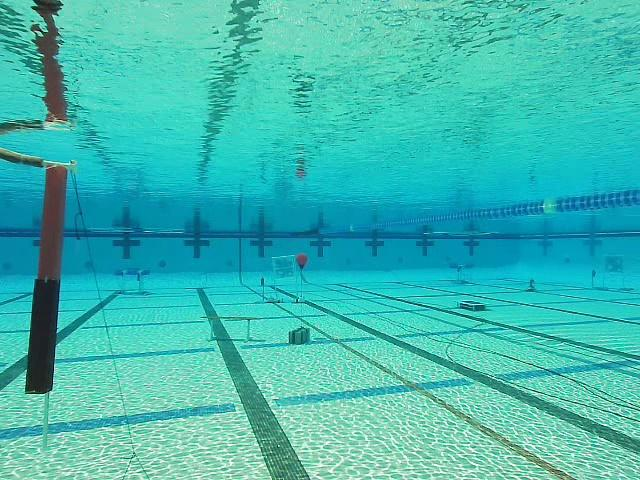buoy: (293, 254, 307, 272)
dropper: (459, 299, 488, 312)
gate_leg_r: (25, 159, 75, 396)
table: (115, 268, 148, 296), (273, 256, 296, 280)
torpedo: (602, 253, 627, 275)
